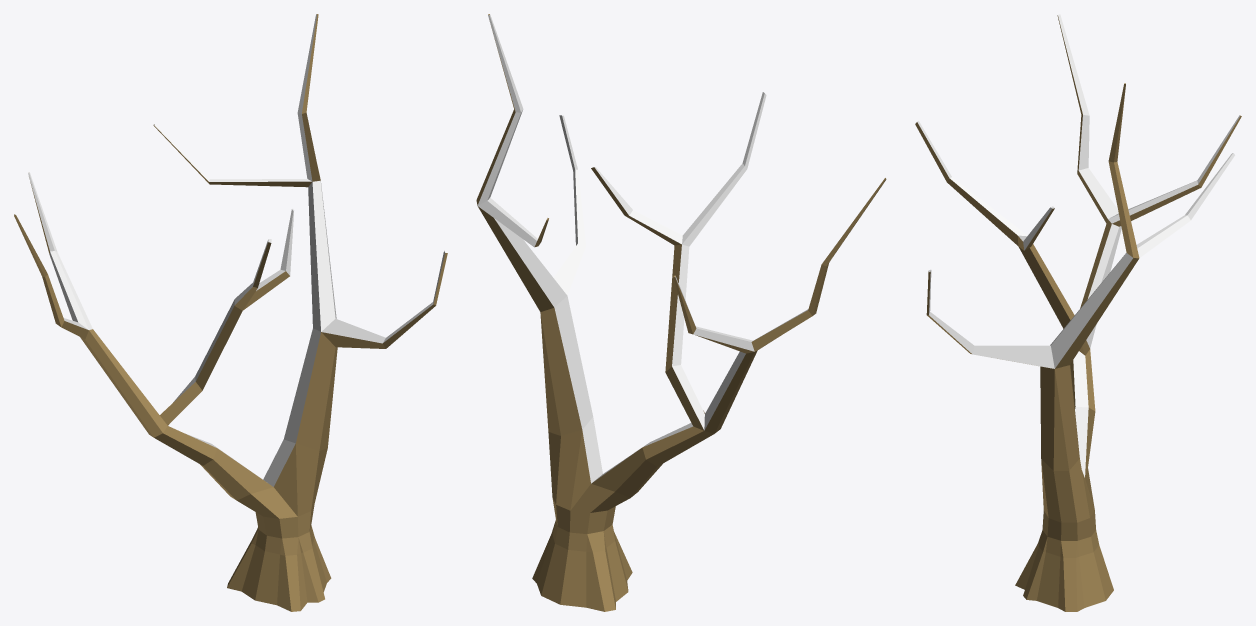
File: Oak_Tree_NoLeaves_l_Snow_03_LOD.fbx
The picture shows the model from 3 angles, left to right: view 1: azimuth 30°, elevation 25°; view 2: azimuth 150°, elevation 25°; view 3: azimuth 270°, elevation 25°; orthographic projection. The views are drawn at different scales.
Visible parts, largest first — view 1: Oak_Tree_NoLeaves_l_Snow_03_LOD0; view 2: Oak_Tree_NoLeaves_l_Snow_03_LOD0; view 3: Oak_Tree_NoLeaves_l_Snow_03_LOD0.
Part boxes in pixels (bbox=[...]): Oak_Tree_NoLeaves_l_Snow_03_LOD0: bbox=[14, 14, 447, 611]; Oak_Tree_NoLeaves_l_Snow_03_LOD0: bbox=[476, 14, 886, 611]; Oak_Tree_NoLeaves_l_Snow_03_LOD0: bbox=[915, 14, 1241, 611].
Size of what is drawn, in the model's own units: 653 by 913 by 504.
